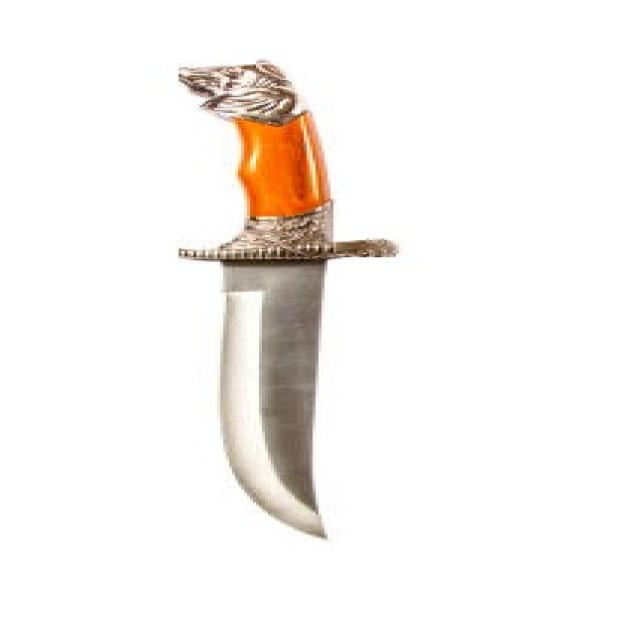knife: (155, 59, 401, 543)
